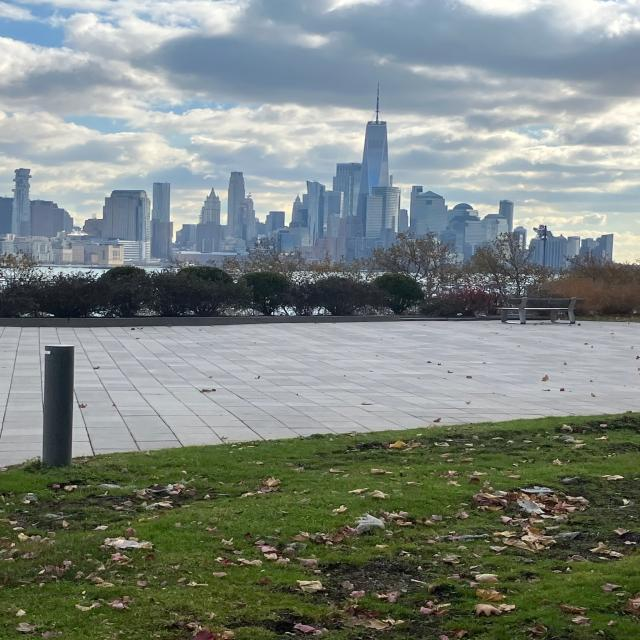WTC: (363, 82, 391, 190)
